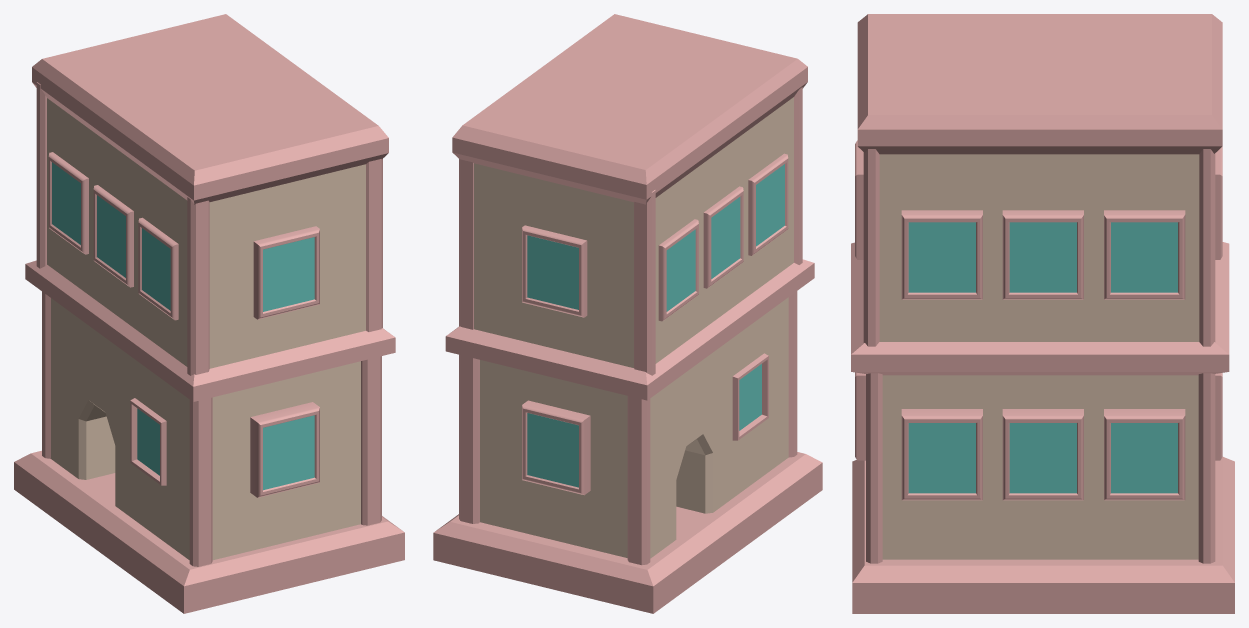
The model's file is 2storyHouseTextured.fbx.
3 renders of one model, left to right at view 1: azimuth 30°, elevation 25°; view 2: azimuth 150°, elevation 25°; view 3: azimuth 270°, elevation 25°, orthographic. The views are drawn at different scales.
Parts seen in each view (by area): view 1: pCube49, pCube50, pCube69, pCube60, pCube43, pCube54, pCube44, pCube58, pCube59, pCube57, pCube52, pCube53 (+2 smaller); view 2: pCube49, pCube50, pCube65, pCube64, pCube42, pCube53, pCube45, pCube57, pCube58, pCube59, pCube51, pCube43 (+2 smaller); view 3: pCube49, pCube50, pCube66, pCube67, pCube68, pCube61, pCube62, pCube63, pCube45, pCube52, pCube51, pCube44 (+4 smaller).
Boxes of the visible parts, x1,y1,x2,y2 form: pCube49: [25, 14, 395, 560]; pCube50: [14, 450, 404, 613]; pCube69: [250, 402, 319, 497]; pCube60: [253, 226, 319, 319]; pCube43: [189, 397, 212, 566]; pCube54: [187, 197, 209, 375]; pCube44: [361, 356, 381, 525]; pCube58: [93, 185, 133, 287]; pCube59: [138, 217, 178, 320]; pCube57: [48, 152, 88, 254]; pCube52: [366, 159, 382, 331]; pCube53: [36, 82, 46, 268]; pCube49: [445, 14, 814, 558]; pCube50: [433, 452, 822, 613]; pCube65: [522, 400, 590, 495]; pCube64: [522, 225, 587, 317]; pCube42: [627, 396, 650, 565]; pCube53: [634, 190, 655, 375]; pCube45: [459, 354, 479, 523]; pCube57: [658, 219, 698, 321]; pCube58: [703, 186, 743, 288]; pCube59: [748, 153, 788, 255]; pCube51: [459, 159, 473, 329]; pCube43: [788, 291, 797, 457]; pCube49: [851, 14, 1229, 559]; pCube50: [852, 457, 1234, 613]; pCube66: [1104, 409, 1185, 500]; pCube67: [1002, 409, 1083, 500]; pCube68: [901, 409, 982, 500]; pCube61: [901, 210, 982, 299]; pCube62: [1002, 210, 1083, 299]; pCube63: [1104, 210, 1185, 299]; pCube45: [1198, 373, 1215, 563]; pCube52: [863, 149, 879, 346]; pCube51: [1199, 149, 1215, 346]; pCube44: [866, 373, 882, 563].
Size of the model in its own units: 13.94 by 26.17 by 18.65.
